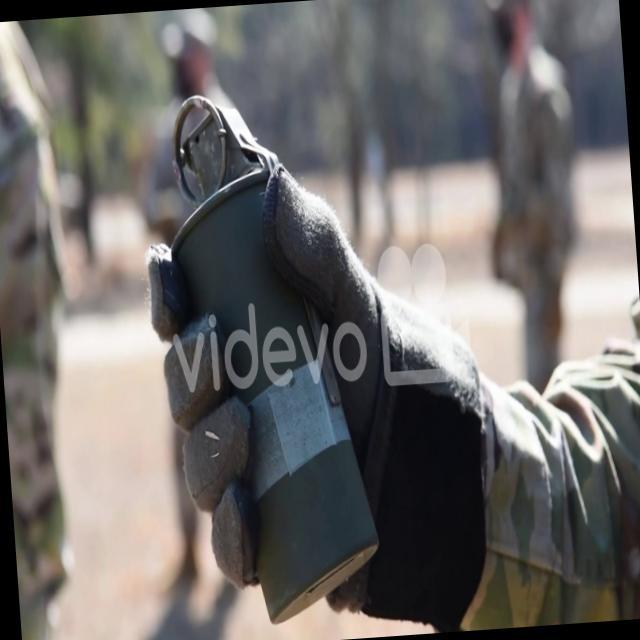grenade: (138, 75, 382, 638)
